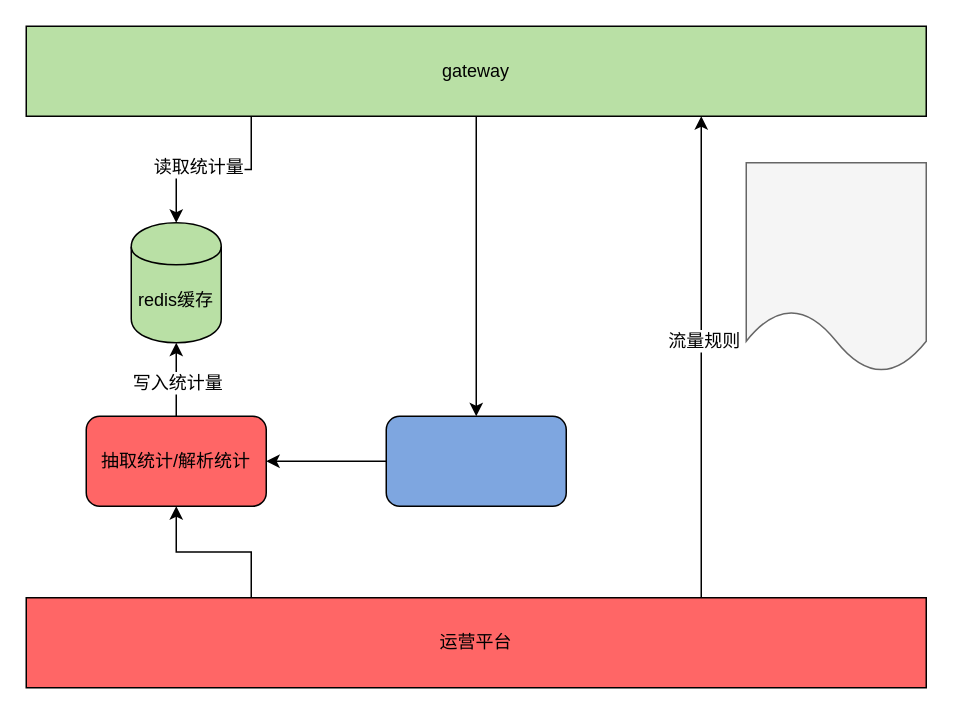
Image size: 953x714. Some labels were removed from this diagram. The centre of each missing label's shape, as x and y in pixels:
1、gateway提供流量规则更新api 2、gateway实现基于规则和缓存数据拦截的业务实现: the point at 835,267
ocr/pasing: the point at 475,460
